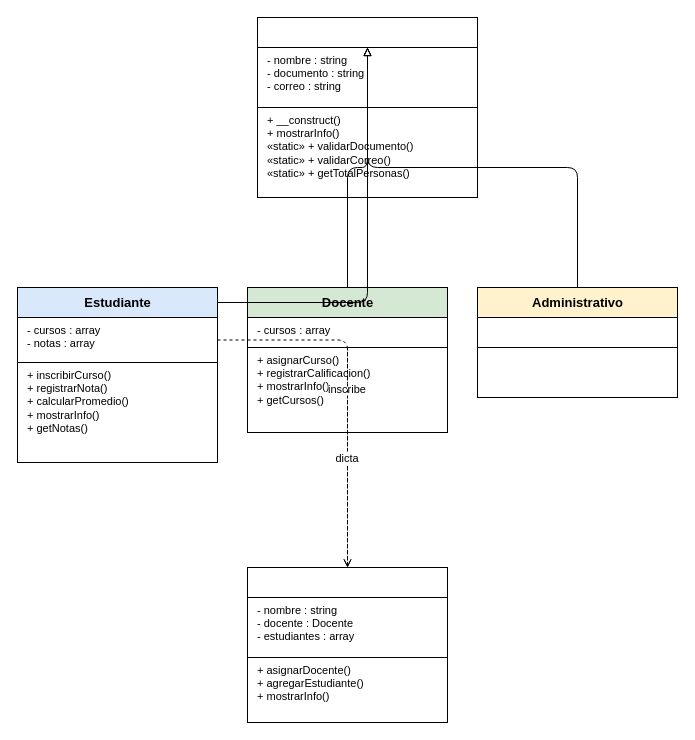
The diagram is 695 pixels wide and 740 high, and some of its shapes have lost their labels. Each missing label, with the centre of its shape:
"+ gestionarProceso() + mostrarInfo()" goes at [577,372].
"- cargo : string" goes at [577,332].
"Curso" goes at [347,582].
"«abstracta» Persona" goes at [367,32].
